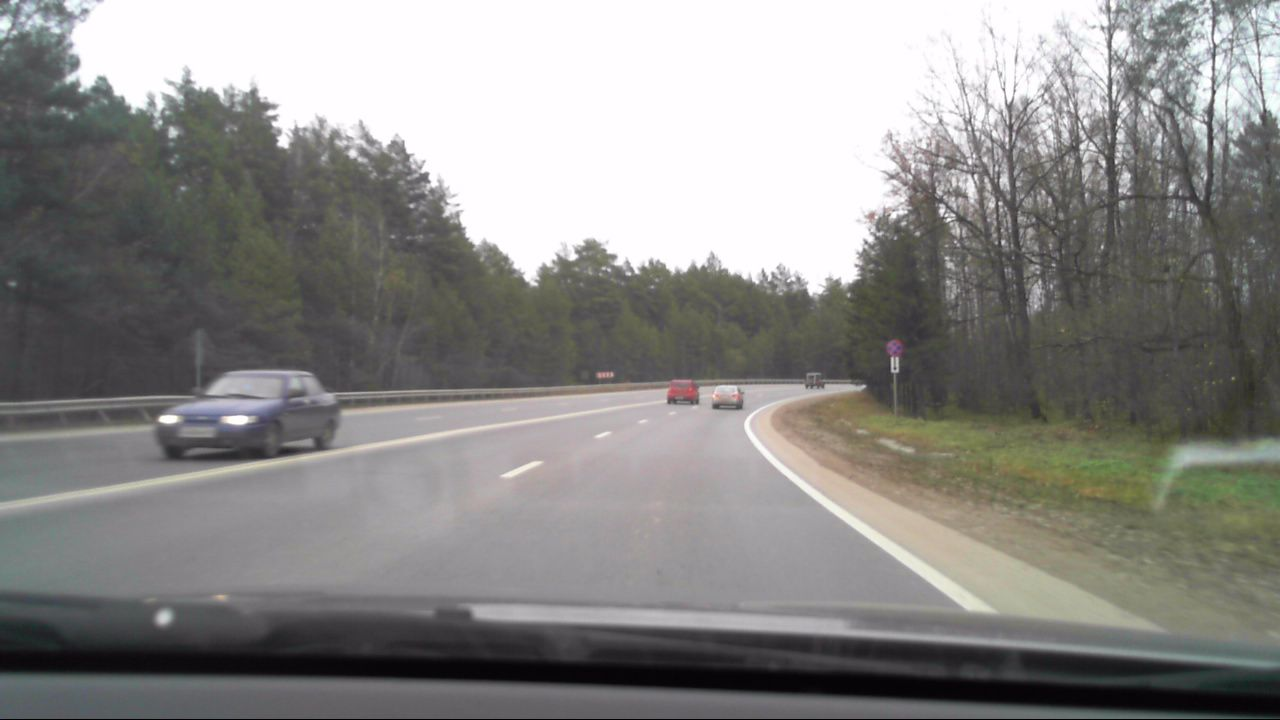No Parking: (885, 335, 904, 357)
